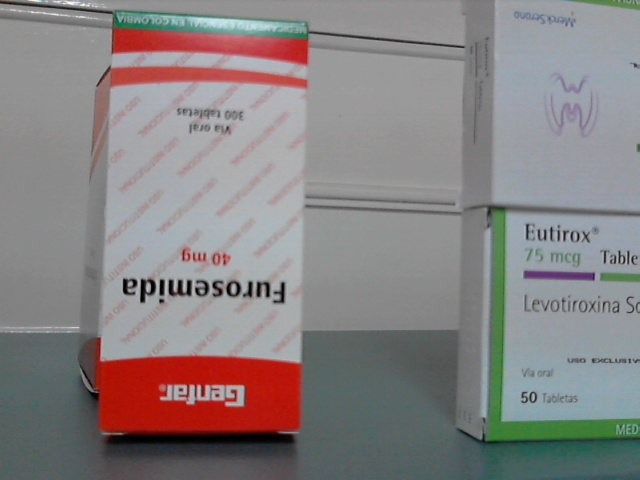Genfar: (98, 13, 306, 434)
